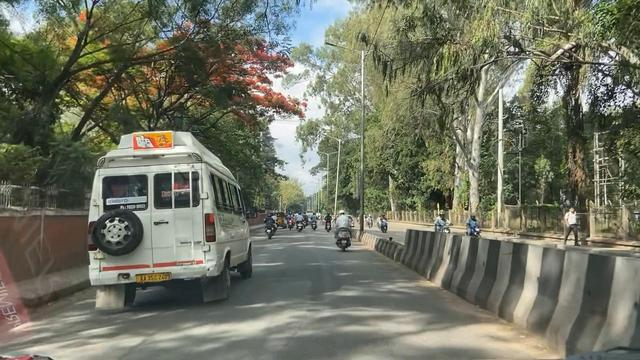HMV: (87, 162, 221, 299)
LMV: (337, 209, 352, 250), (264, 211, 275, 240), (295, 209, 305, 234)
